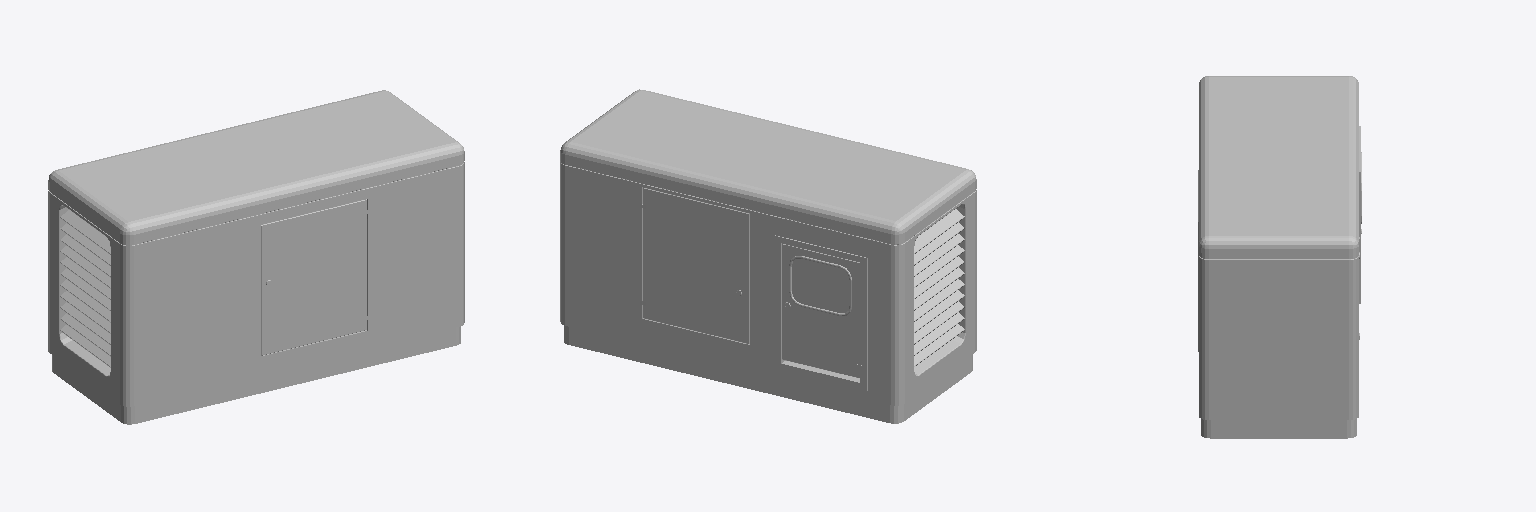
The model's file is Generator.obj.
3 views of the same model, side by side, from view 1: azimuth 30°, elevation 25°; view 2: azimuth 150°, elevation 25°; view 3: azimuth 270°, elevation 25° (orthographic).
Parts seen in each view (by area): view 1: SM_GeneratorMain; view 2: SM_GeneratorMain, SM_GeneratorGlass; view 3: SM_GeneratorMain.
Part boxes in pixels (x1,y1,x2,y2): SM_GeneratorMain: (48,90,464,424); SM_GeneratorMain: (560,89,976,423); SM_GeneratorGlass: (792,259,849,312); SM_GeneratorMain: (1198,76,1361,438).
Bounding box in the file's own units: 2.46 × 1.37 × 1.02.